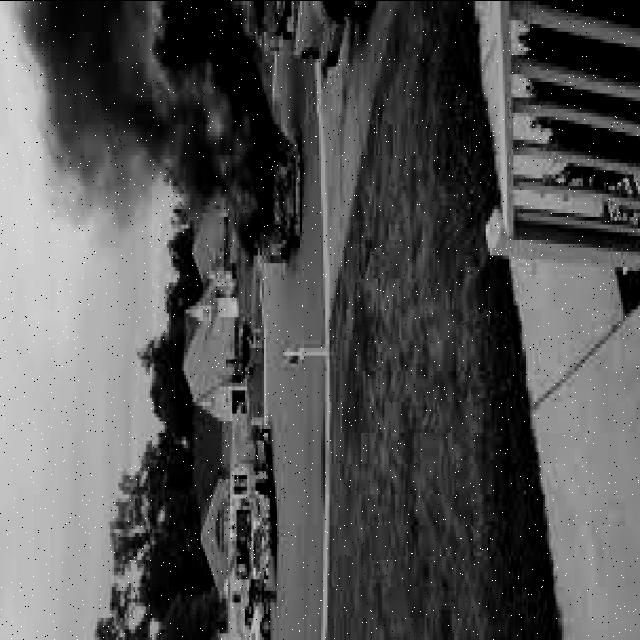api: (234, 102, 314, 283)
